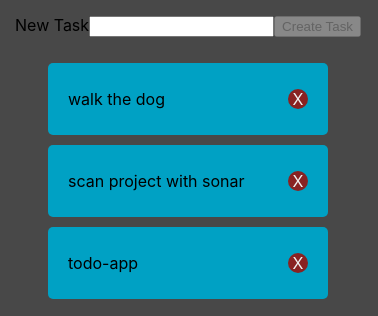
Given an App component › When it's rendered and clicked on the delete button from the third task with text 'todo-app › Then it should disapear
What coordinates should you click on to do the following:
click the link "X" next to "todo-app"
I would click on:
 (298, 263)
Its box is [288,253,308,273].
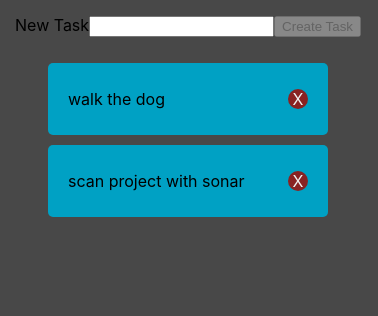
Result: the text "todo-app" is gone
